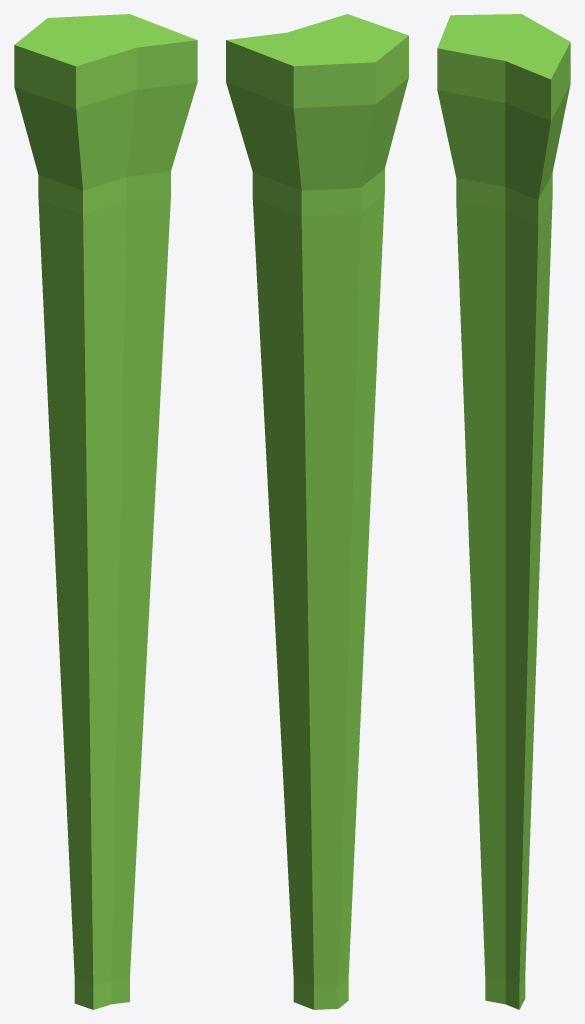
Rendered from Daejeon.obj.
3 views of the same model, side by side, from view 1: azimuth 30°, elevation 25°; view 2: azimuth 210°, elevation 25°; view 3: azimuth 330°, elevation 25° (orthographic).
Parts seen in each view (by area): view 1: Daejeon; view 2: Daejeon; view 3: Daejeon.
Part boxes in pixels (left/top/right/bottom): Daejeon: left=14, top=14, right=197, bottom=1009; Daejeon: left=226, top=14, right=408, bottom=1009; Daejeon: left=437, top=14, right=570, bottom=1009.
Bounding box in the file's own units: 8.05 × 52.07 × 5.91.
